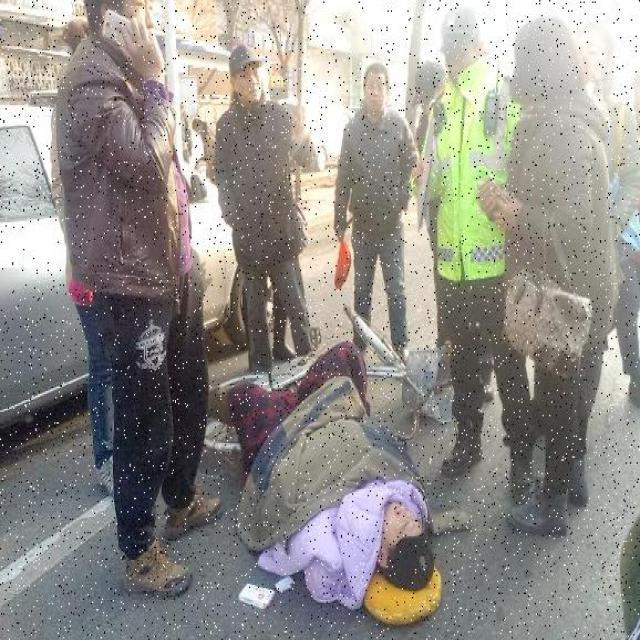fall: (226, 362, 445, 594)
